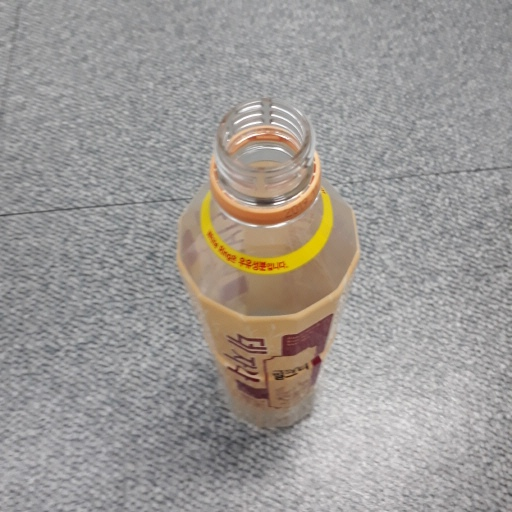Plastic_0: (172, 97, 361, 432)
